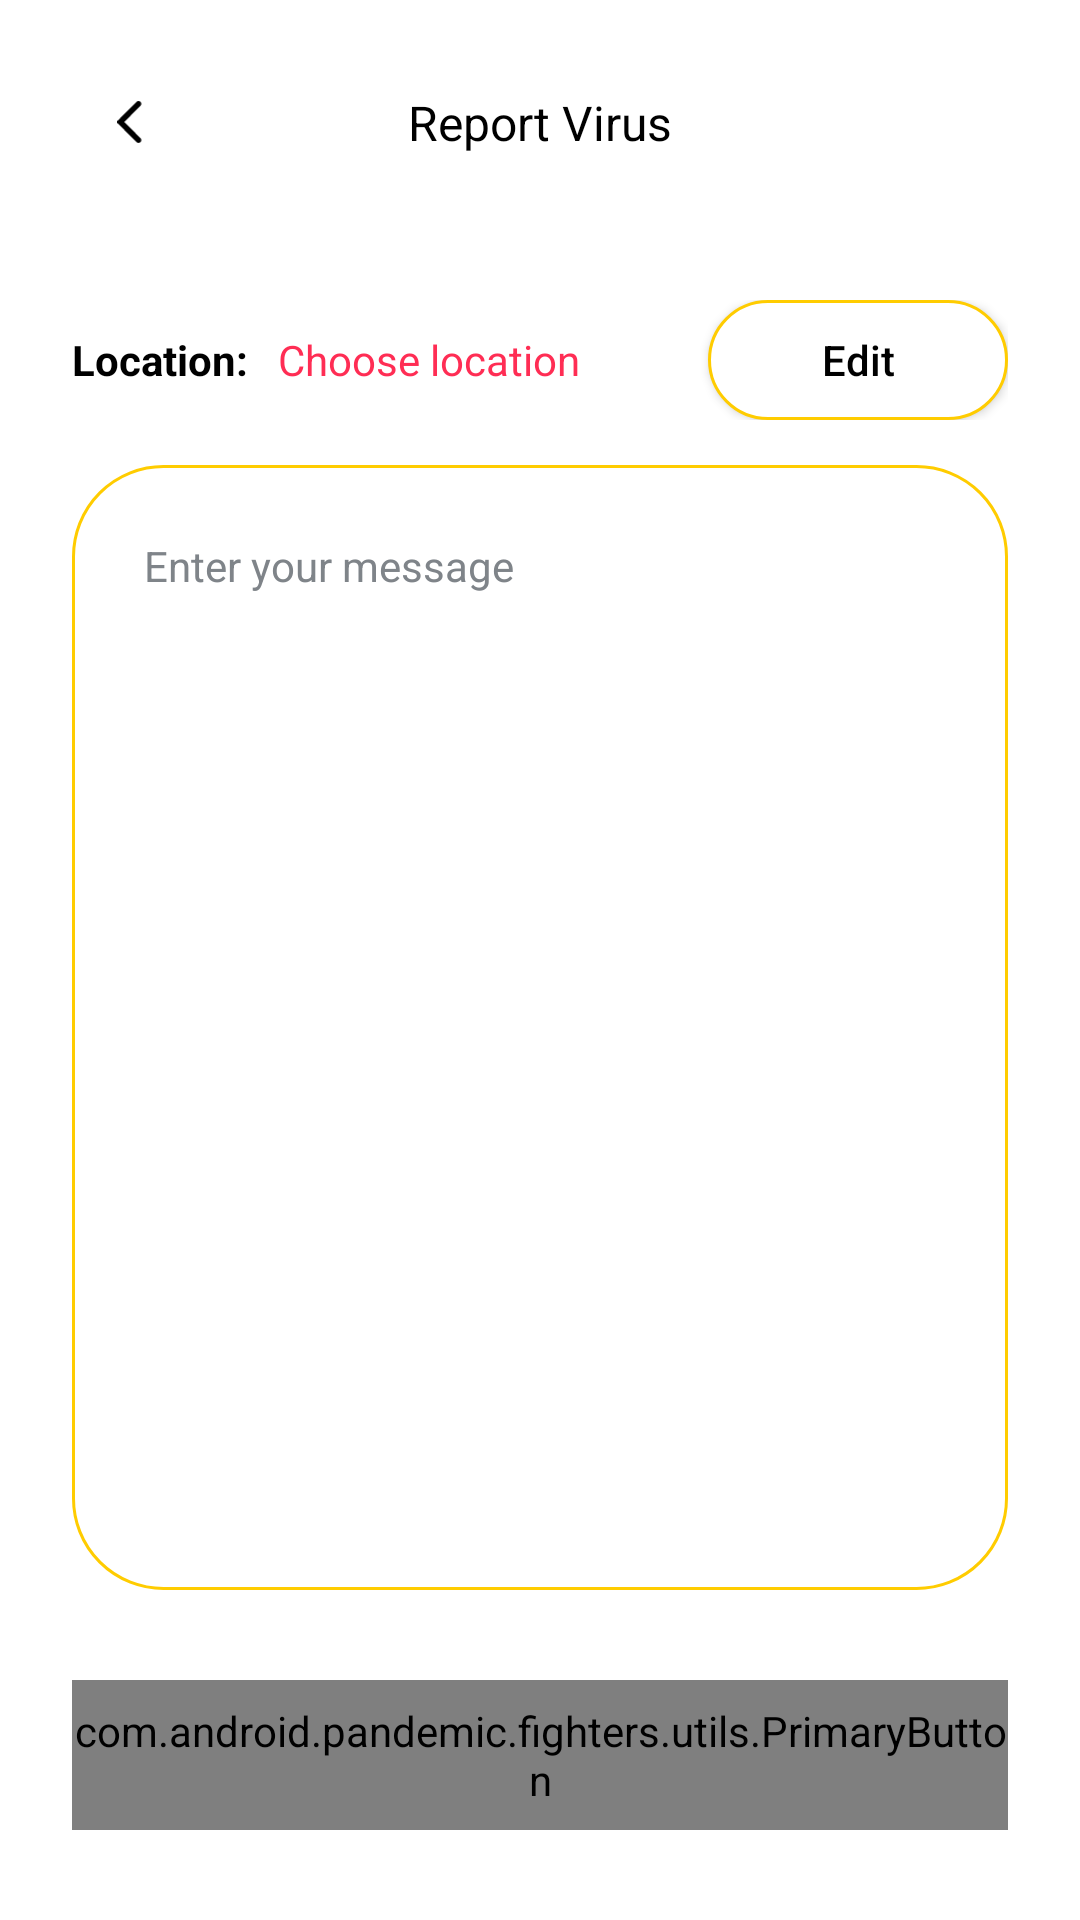

Screen size 1080 x 1920. Icon name, then its box in pixels as region(x1, y1, x2, y2):
back: region(117, 101, 142, 143)
